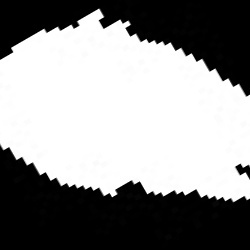spot: (2, 10, 249, 201)
